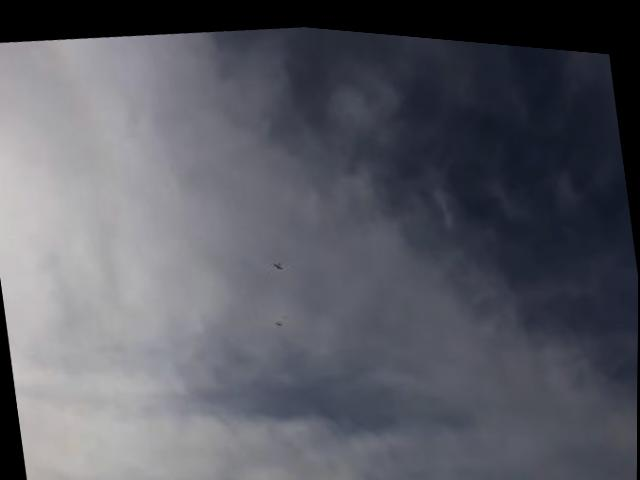uav: (271, 253, 284, 268)
